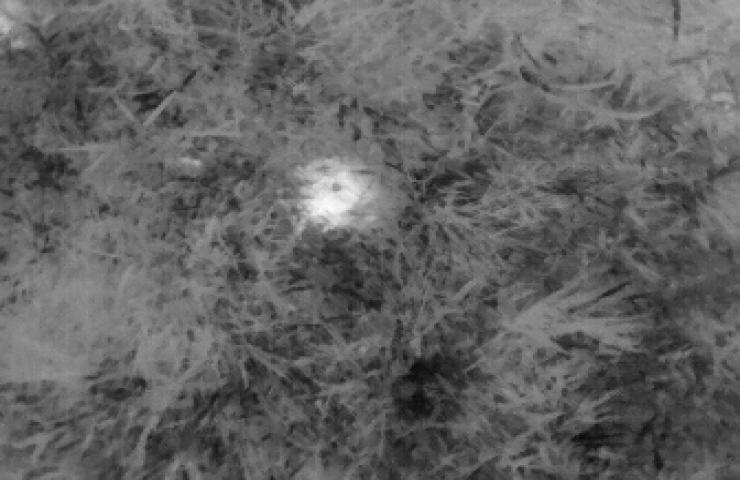landmines: (295, 160, 375, 228)
